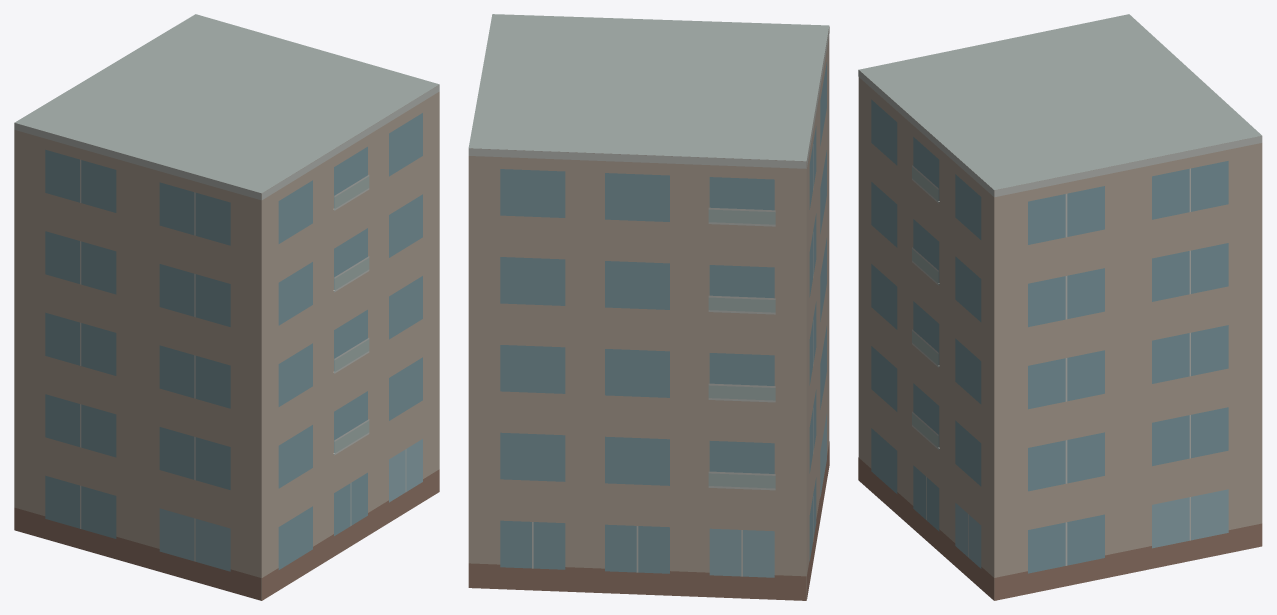
The model's file is survey-upis-32828183.glb.
The picture shows the model from 3 angles, left to right: view 1: azimuth 30°, elevation 25°; view 2: azimuth 150°, elevation 25°; view 3: azimuth 270°, elevation 25°; orthographic projection. The views are drawn at different scales.
Visible parts, largest first — view 1: survey-upis-32828183.tmp; view 2: survey-upis-32828183.tmp; view 3: survey-upis-32828183.tmp.
Boxes of the visible parts, x1,y1,x2,y2 form: survey-upis-32828183.tmp: (14,14,439,600); survey-upis-32828183.tmp: (468,14,829,600); survey-upis-32828183.tmp: (858,14,1262,600).
Bounding box in the file's own units: 12.99 × 14.1 × 12.57.
